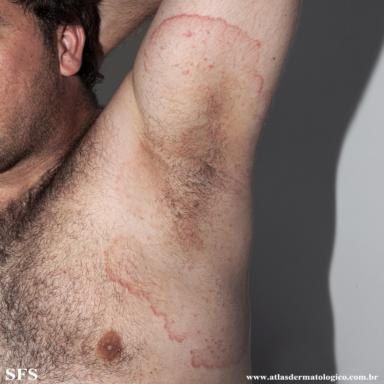Tinea-Corporis: (102, 13, 274, 370)
